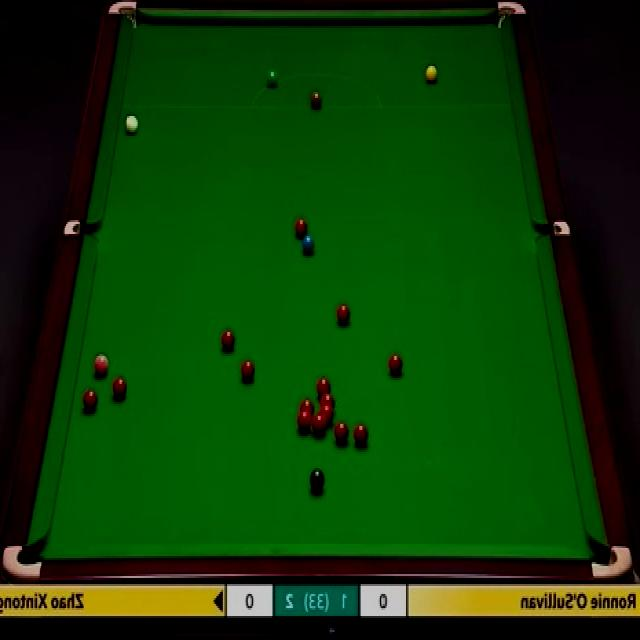pocket: (0, 540, 43, 582), (591, 543, 636, 582), (495, 0, 529, 32), (108, 0, 138, 31), (535, 218, 572, 238), (62, 218, 100, 236)
